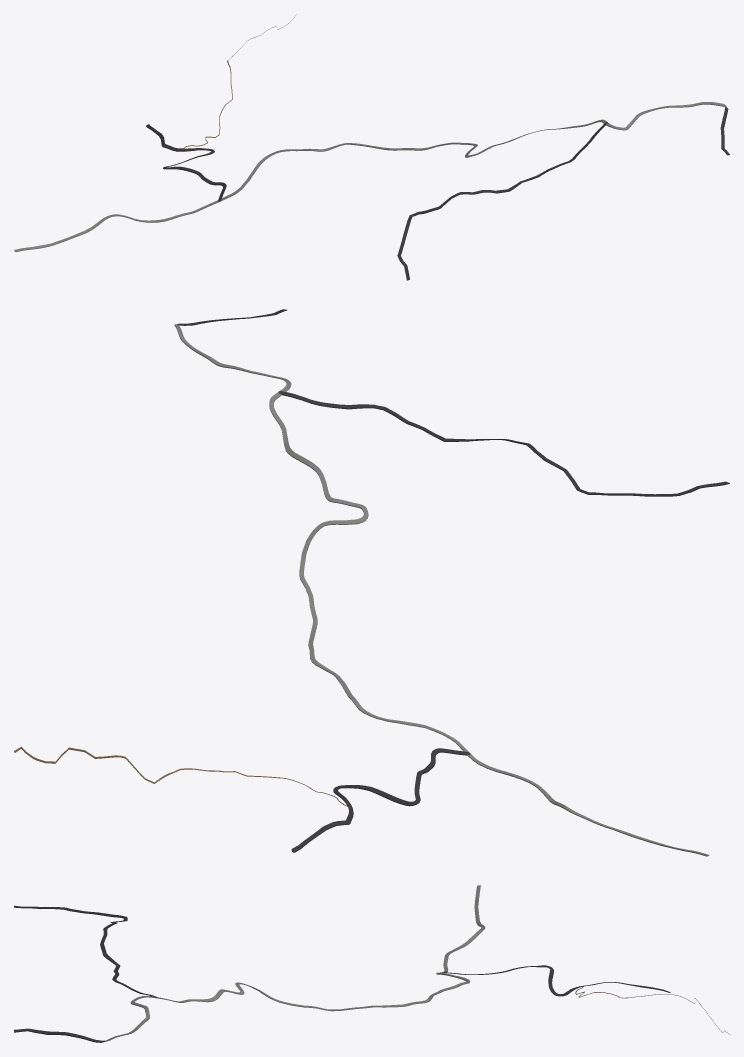
File: 15-27352-14878.954edba7.glb
The picture shows the model from 3 angles, top to bottom: view 1: azimuth 30°, elevation 25°; view 2: azimuth 150°, elevation 25°; view 3: azimuth 270°, elevation 25°; orthographic projection. The views are drawn at different scales.
Size of the model in its own units: 1175 by 275 by 1166.
